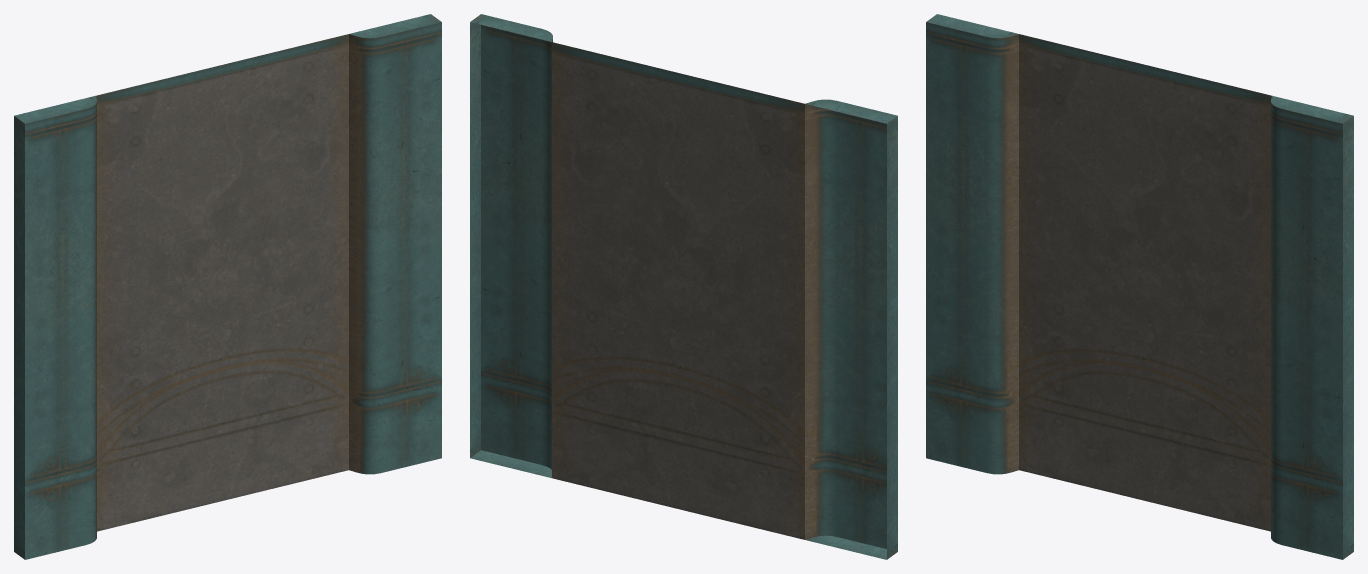
File: SM_Wall01.FBX
The picture shows the model from 3 angles, left to right: view 1: azimuth 30°, elevation 25°; view 2: azimuth 150°, elevation 25°; view 3: azimuth 330°, elevation 25°; orthographic projection.
Visible parts, largest first — view 1: SM_Wall01; view 2: SM_Wall01; view 3: SM_Wall01.
Part boxes in pixels (x1,y1,x2,y2): SM_Wall01: (14,14,441,559); SM_Wall01: (470,14,897,559); SM_Wall01: (926,14,1353,559).
Size of the model in its own units: 400 by 18.4 by 400.
